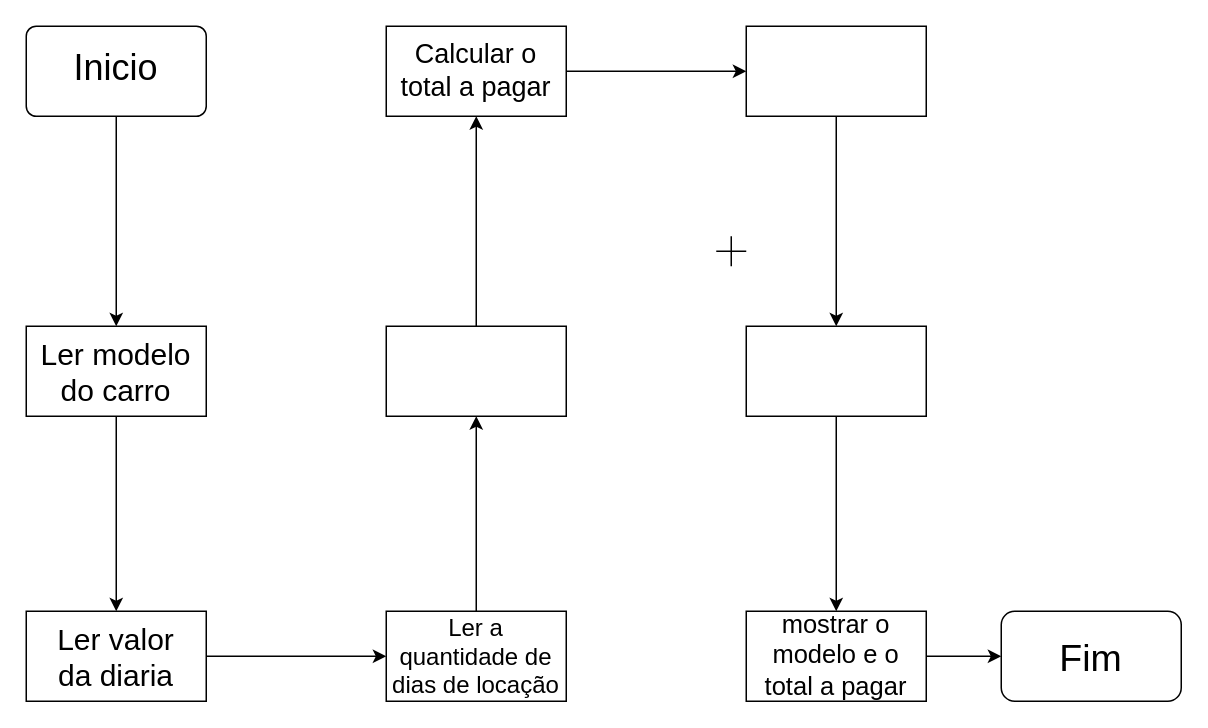
Image size: 1208x728. Some labels were removed from this diagram. Here are the shapes that lost their labels. From the top down, the centre of each, then its label:
(x=835, y=70): (valor da diaria * quantidade de dias percorridos)
(x=475, y=370): Ler quantidade de Km percorridos
(x=835, y=370): (0.20 * quantidade de km percorridos)
